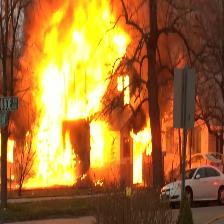fire: (9, 1, 151, 188)
